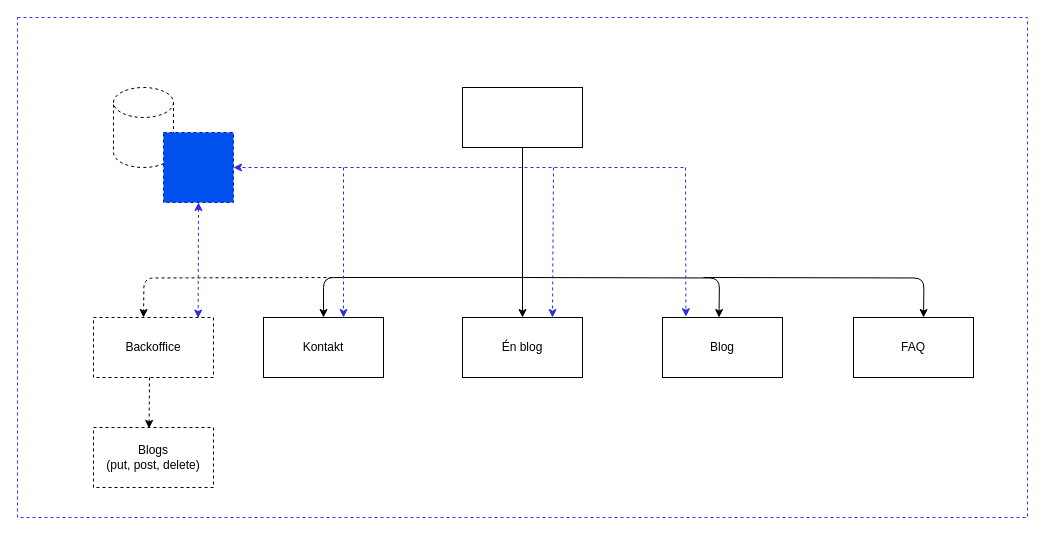
The diagram is 1045 pixels wide and 535 high, and some of its shapes have lost their labels. The shapes that lost their labels are listed below. From the top down, each one's centre as x and y in pixels, then its label:
At (x=143, y=127): "DB".
At (x=522, y=117): "Cinestar".
At (x=198, y=167): "server localhost :3042".
